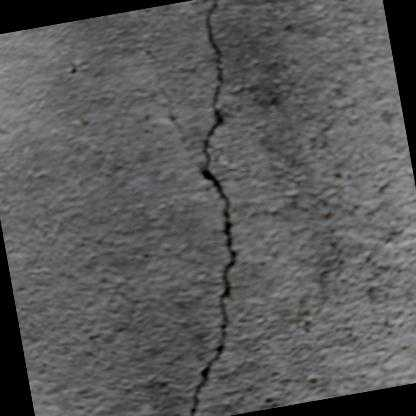crack: (188, 0, 236, 416)
